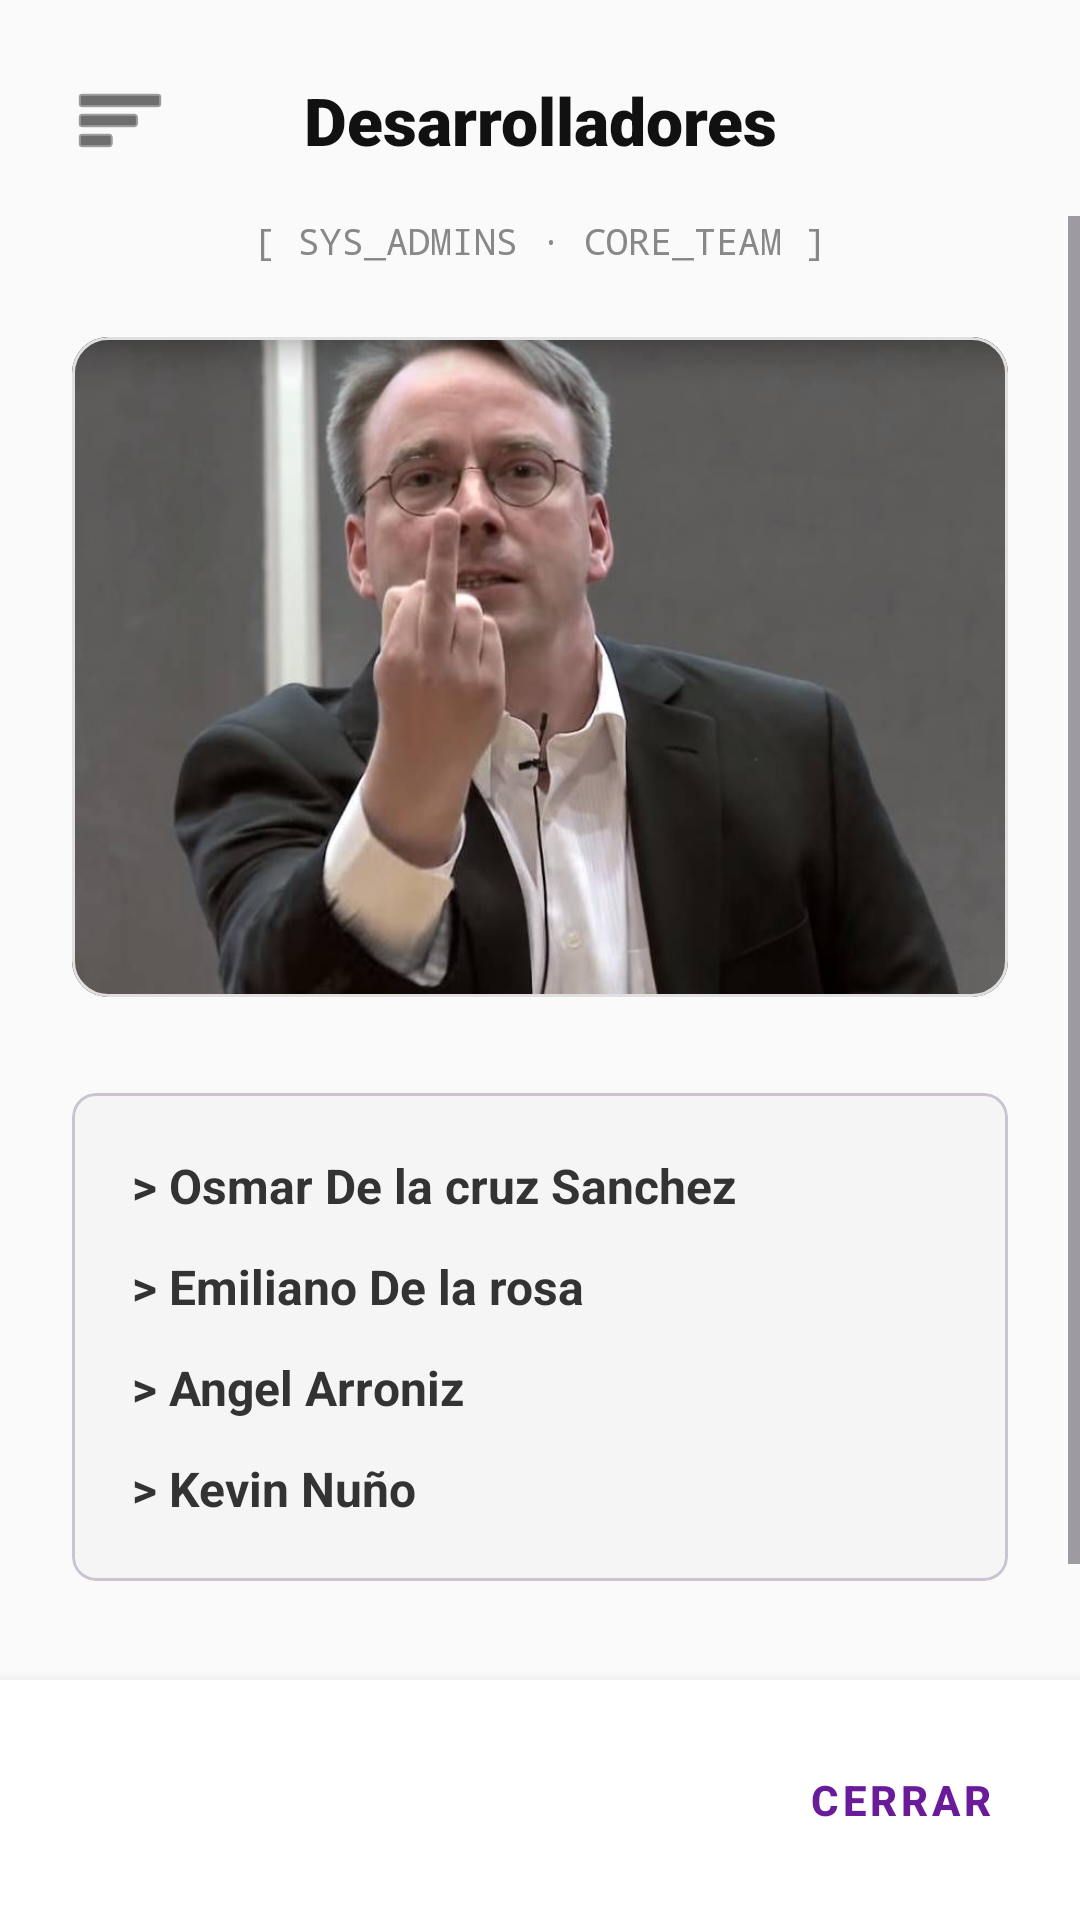

Point at icon controls on the screen. Image size 1080px x 1920px, points as (x=x, y=y).
sort by size: (x=120, y=120)
